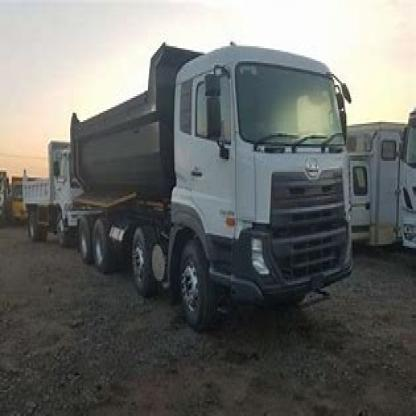dump_truck: (53, 35, 358, 340)
